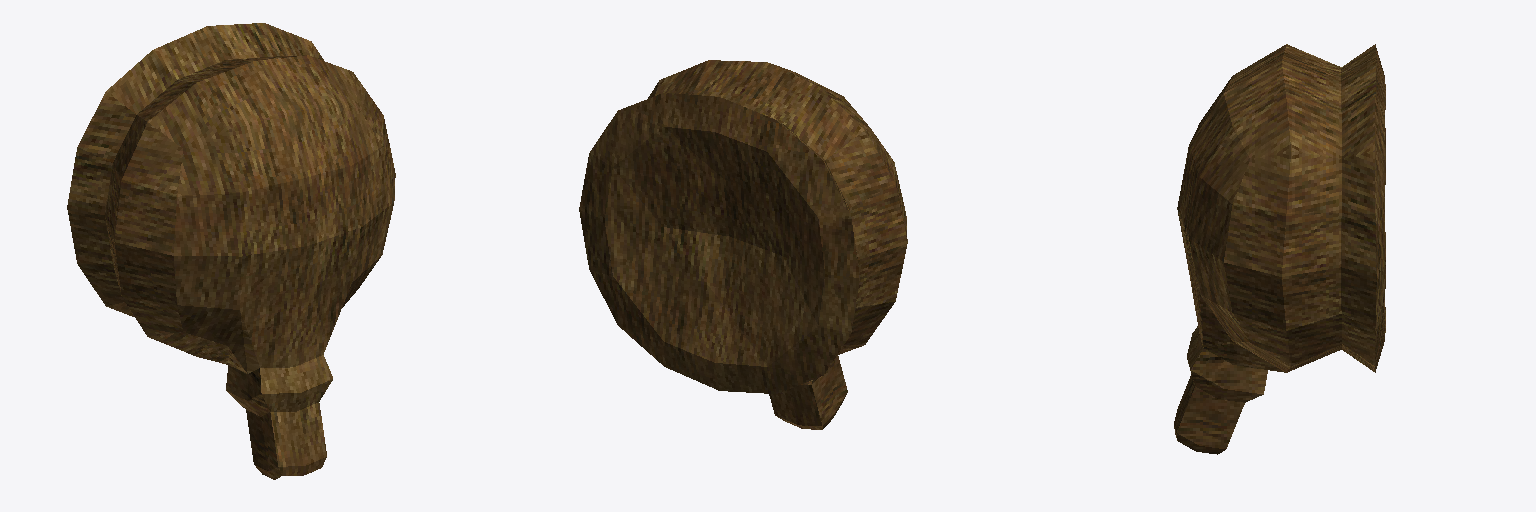
3 renders of one model, left to right at view 1: azimuth 30°, elevation 25°; view 2: azimuth 150°, elevation 25°; view 3: azimuth 270°, elevation 25°, orthographic.
Size of the model in its own units: 1.64 by 2.17 by 1.07.
1 materials, 1 textured.